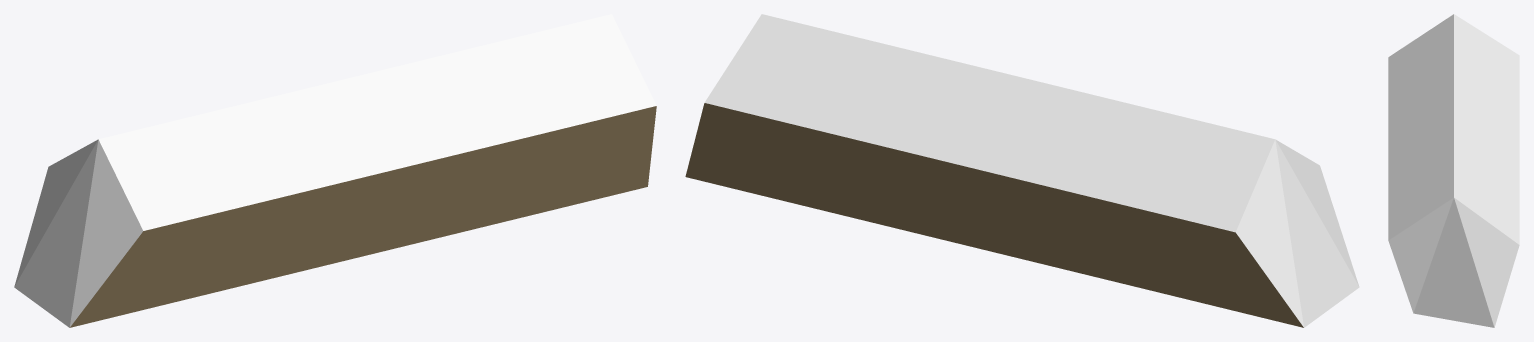
Rendered from Acacia_Firewood_Snow_01_LOD.fbx.
3 views of the same model, side by side, from view 1: azimuth 30°, elevation 25°; view 2: azimuth 150°, elevation 25°; view 3: azimuth 270°, elevation 25° (orthographic). The views are drawn at different scales.
Visible parts, largest first — view 1: Acacia_Firewood_Snow_01_LOD0; view 2: Acacia_Firewood_Snow_01_LOD0; view 3: Acacia_Firewood_Snow_01_LOD0.
Part boxes in pixels (x1=…): Acacia_Firewood_Snow_01_LOD0: x1=14, y1=14, x2=656, y2=327; Acacia_Firewood_Snow_01_LOD0: x1=685, y1=14, x2=1359, y2=327; Acacia_Firewood_Snow_01_LOD0: x1=1388, y1=14, x2=1519, y2=327.
Size of what is drawn, in the model's own units: 52.6 by 12.56 by 13.2.
